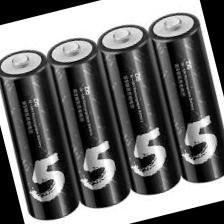battery: (84, 7, 190, 208), (37, 22, 139, 222), (135, 0, 224, 190), (0, 37, 90, 224)
